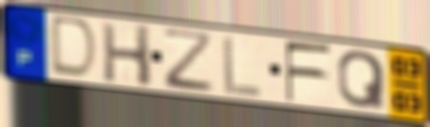D: (48, 13, 101, 82)
F: (282, 40, 334, 105)
H: (99, 21, 154, 90)
L: (220, 34, 264, 100)
Q: (336, 48, 388, 111)
Z: (159, 27, 218, 95)
